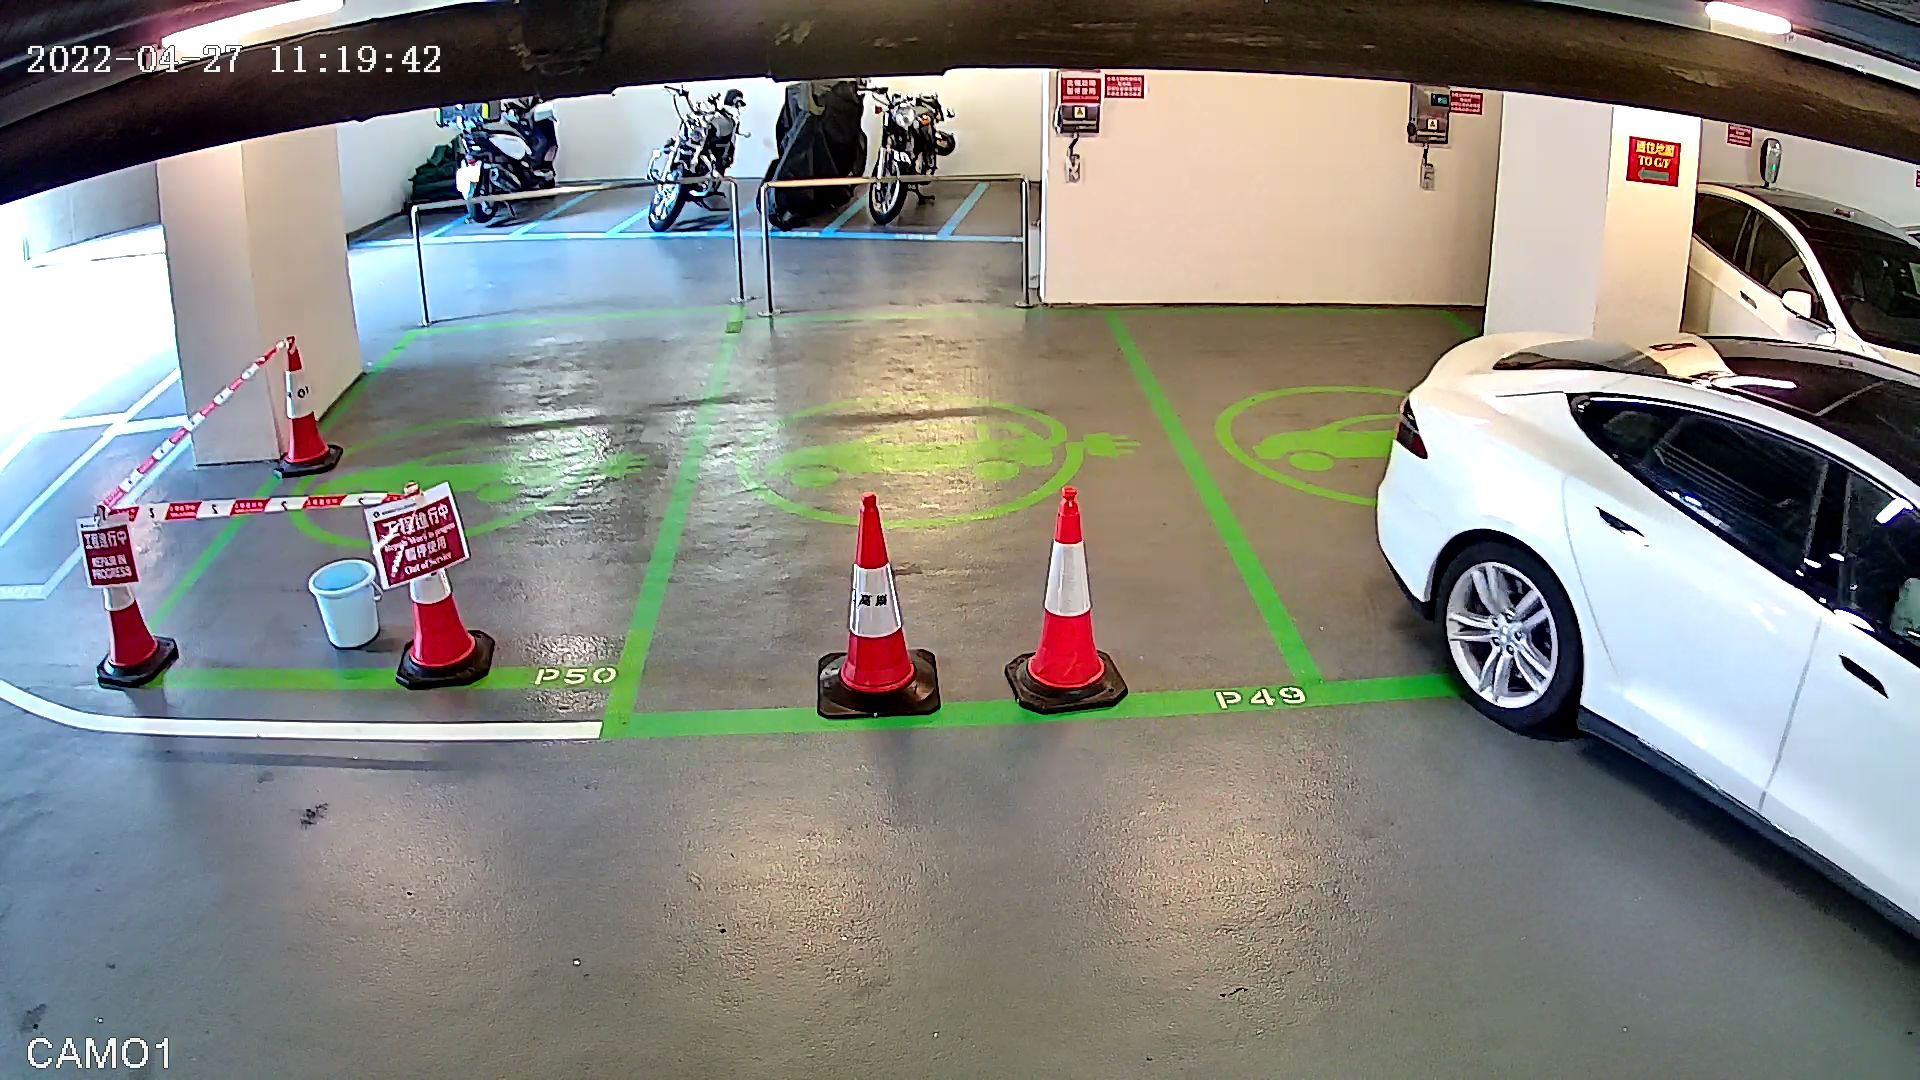space: (576, 284, 1336, 760)
